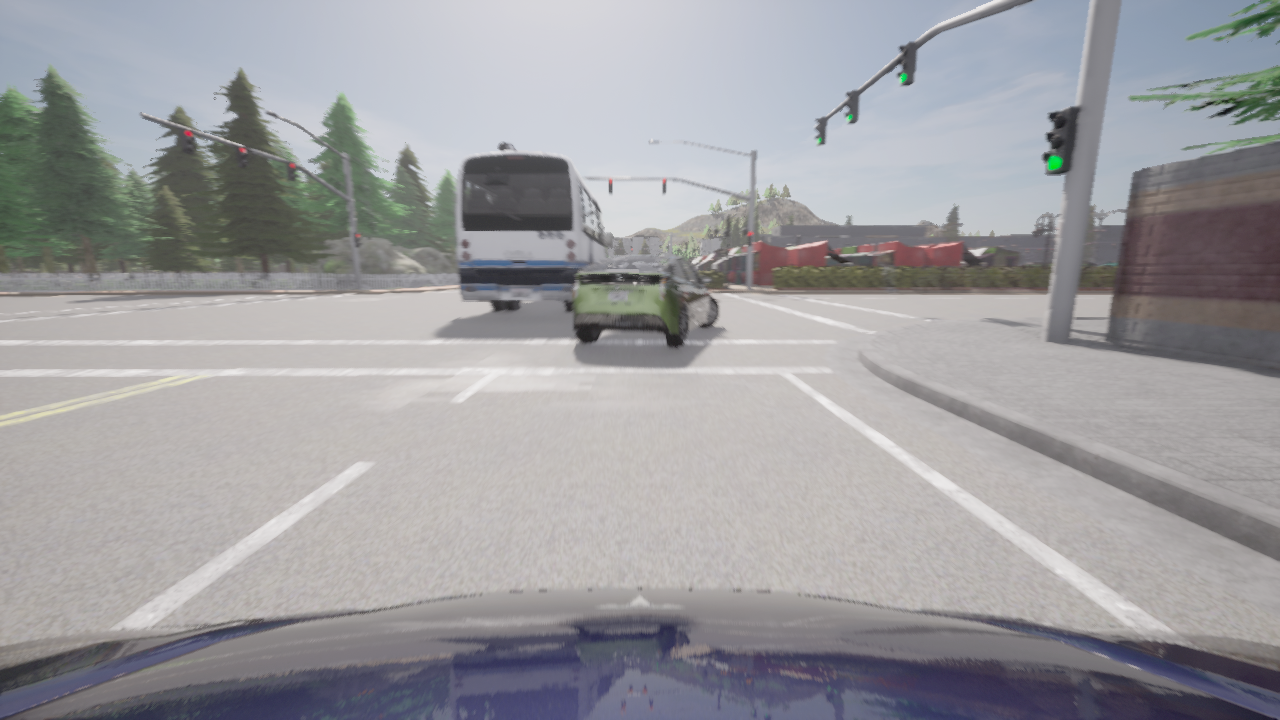cyclist: (0, 588, 1279, 719), (456, 151, 611, 310), (573, 254, 719, 346), (498, 141, 515, 150)
